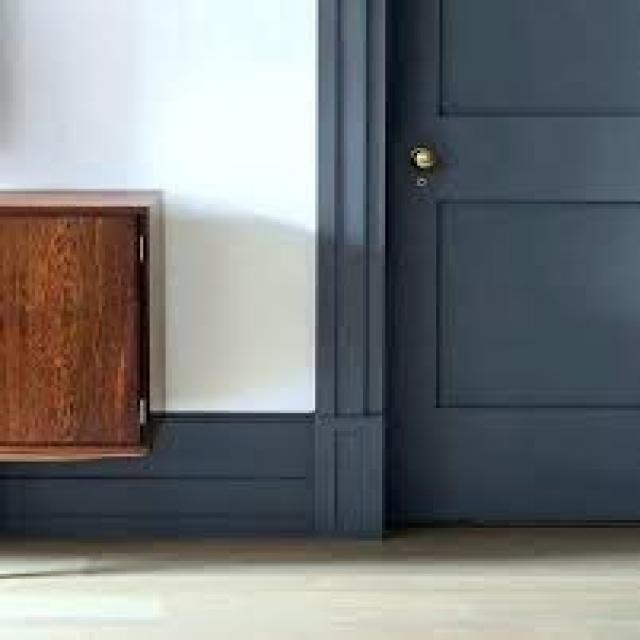Door: (369, 10, 637, 525)
